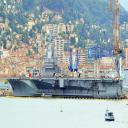Portanaves: (7, 29, 125, 98)
